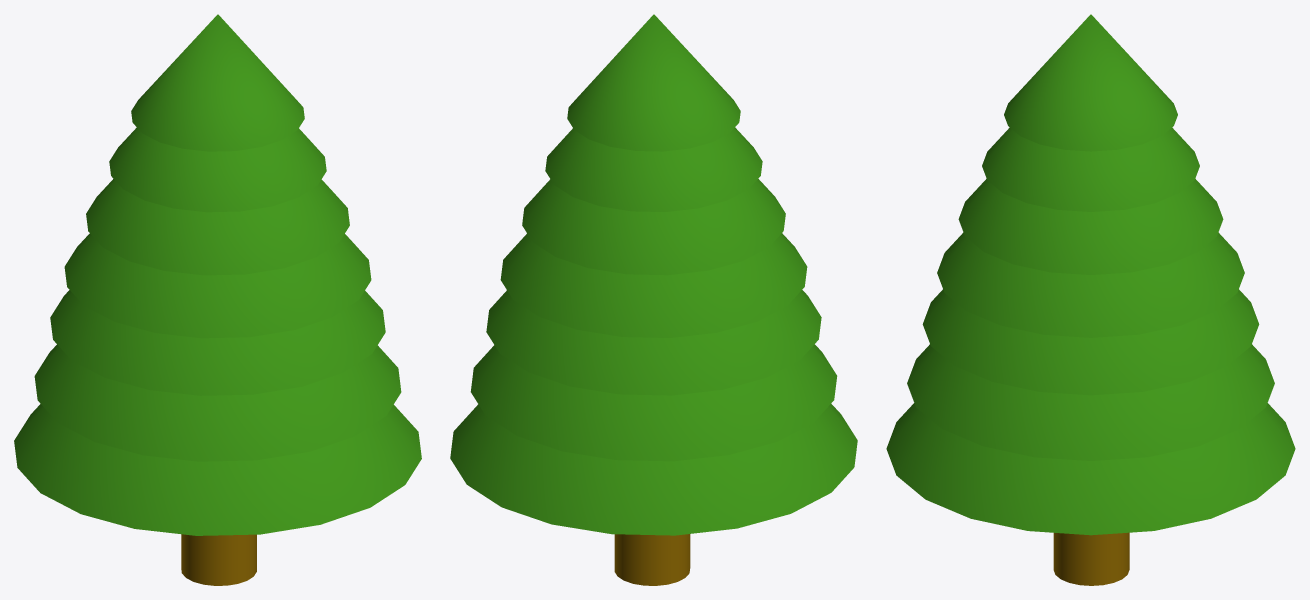
File: sapin.fbx
3 views of the same model, side by side, from view 1: azimuth 30°, elevation 25°; view 2: azimuth 150°, elevation 25°; view 3: azimuth 270°, elevation 25° (orthographic).
Visible parts, largest first — view 1: pCylinder2; view 2: pCylinder2; view 3: pCylinder2.
Boxes of the visible parts, x1,y1,x2,y2 form: pCylinder2: (14, 14, 421, 585); pCylinder2: (450, 14, 857, 585); pCylinder2: (886, 14, 1295, 585).
Bounding box in the file's own units: 18.51 × 27.72 × 18.51.
